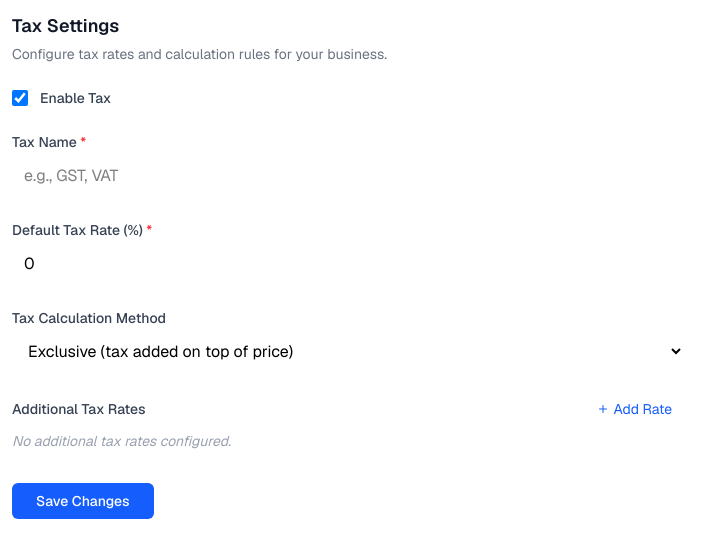
Test: TaxSettings › Validates required fields and rate range › shows error when default tax rate exceeds 100
The image size is (702, 560).
Type "GST" into the field labelled "Tax Name *". click: (348, 176)
box: [12,156,684,196]
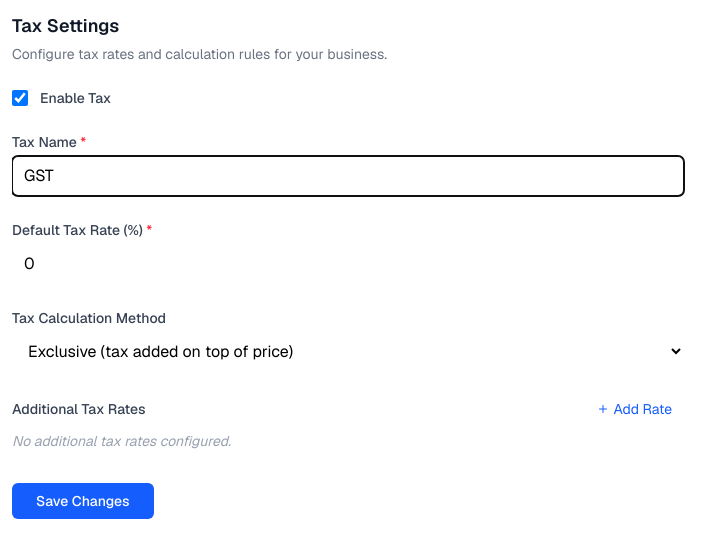
Replace the text in the number field labelled "Default Tax Rate (%) *" with "150". click: (348, 264)
box: [12,244,684,284]
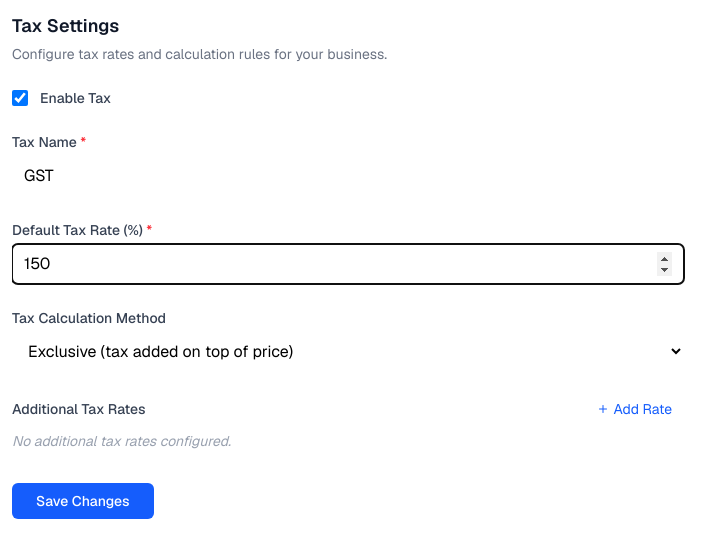
Click the button "Save Changes". click: (83, 501)
box: [12,483,154,519]
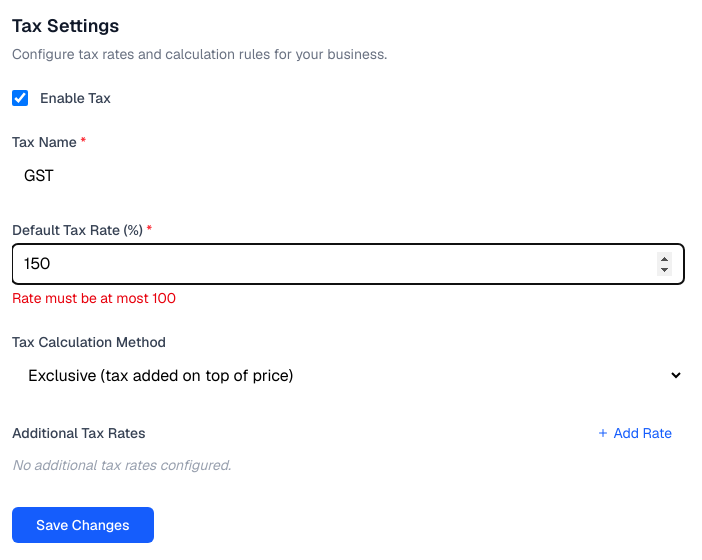
Expected: the text "Rate must be at most 100" is shown, [12,289,176,307]
